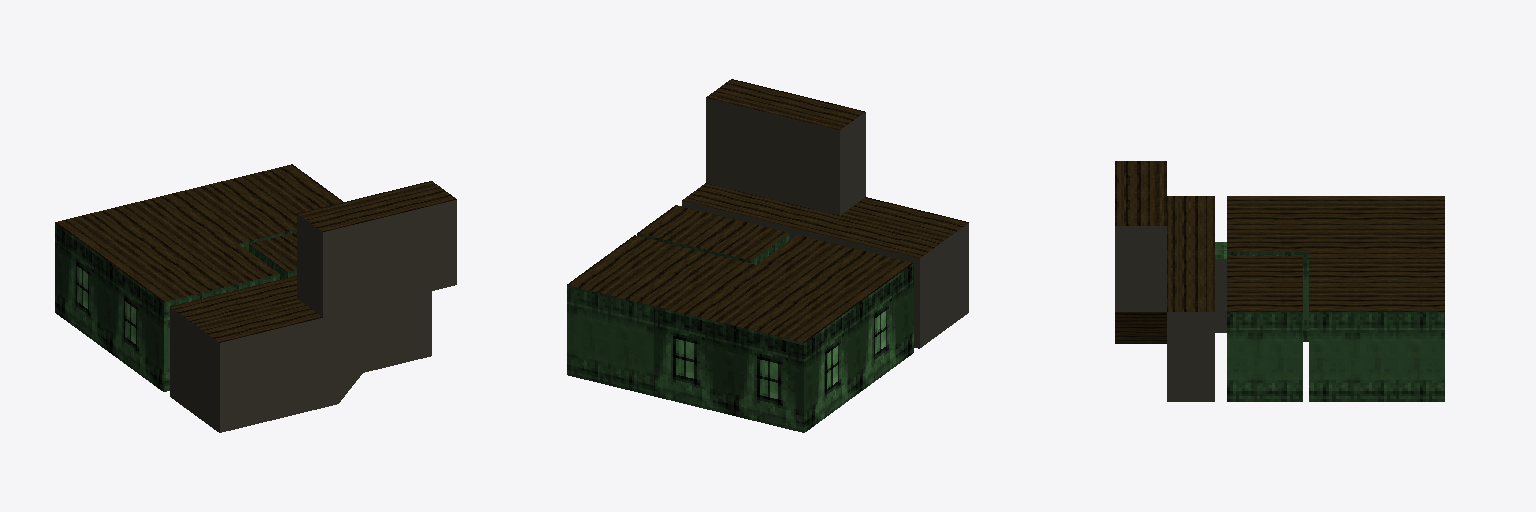
3 views of the same model, side by side, from view 1: azimuth 30°, elevation 25°; view 2: azimuth 150°, elevation 25°; view 3: azimuth 270°, elevation 25° (orthographic).
Visible parts, largest first — view 1: ghouse1; view 2: ghouse1; view 3: ghouse1.
Boxes of the visible parts, box(x1,y1,x2,y2) form: ghouse1: box(55, 164, 456, 432); ghouse1: box(567, 79, 968, 432); ghouse1: box(1115, 161, 1444, 401).
Bounding box in the file's own units: 16 × 11.28 × 19.22.
Materials: 13 (10 with a texture image).